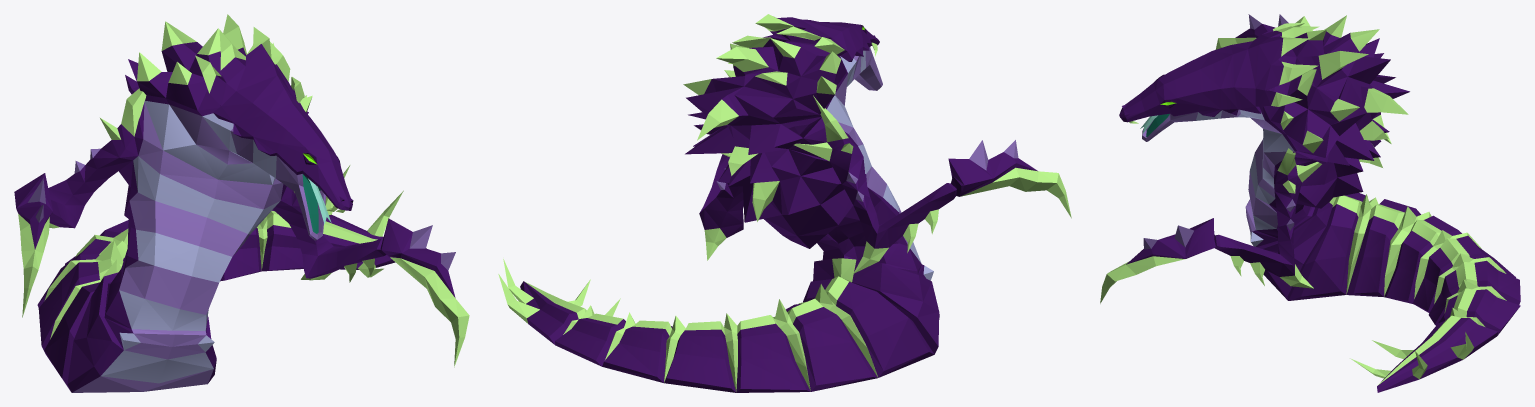
The picture shows the model from 3 angles, left to right: view 1: azimuth 30°, elevation 25°; view 2: azimuth 150°, elevation 25°; view 3: azimuth 270°, elevation 25°; orthographic projection. The views are drawn at different scales.
Parts seen in each view (by area): view 1: Alien_Serpent; view 2: Alien_Serpent; view 3: Alien_Serpent.
Part boxes in pixels (left/top/right/bottom): Alien_Serpent: left=14, top=14, right=469, bottom=392; Alien_Serpent: left=498, top=14, right=1071, bottom=392; Alien_Serpent: left=1100, top=14, right=1520, bottom=392.
Bounding box in the file's own units: 317 × 202 × 268.
1 material, 1 textured.
